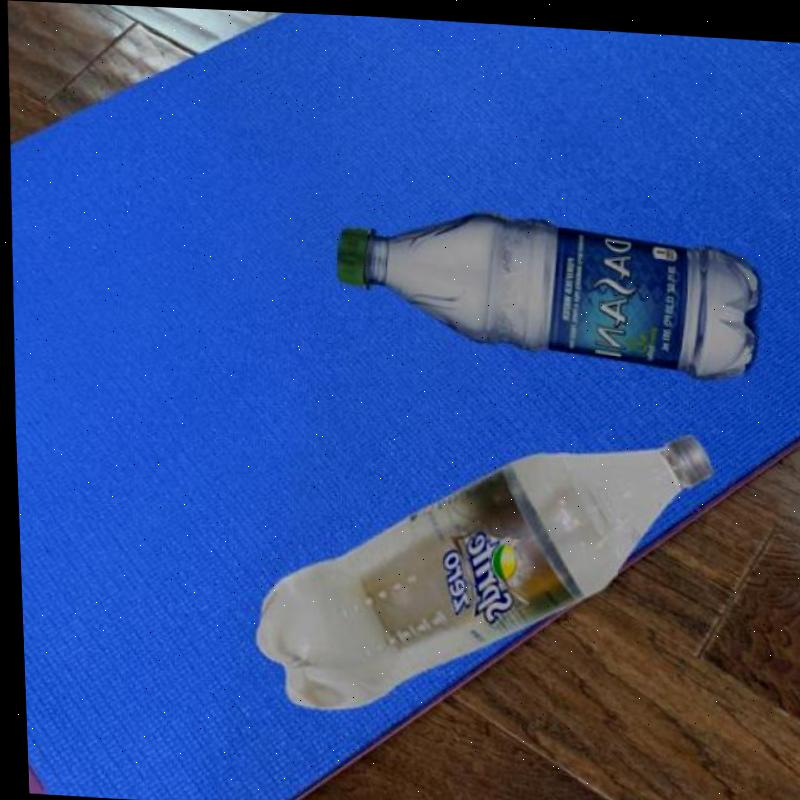botella: (240, 400, 722, 729), (330, 201, 763, 373)
